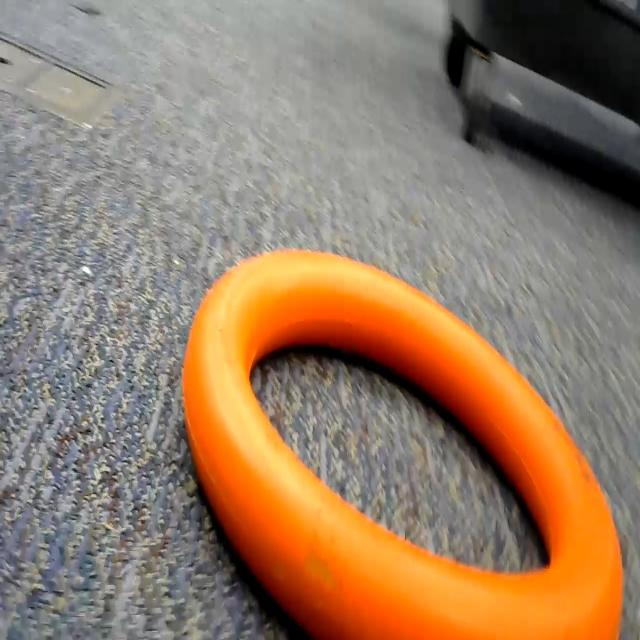note: (180, 236, 640, 640)
